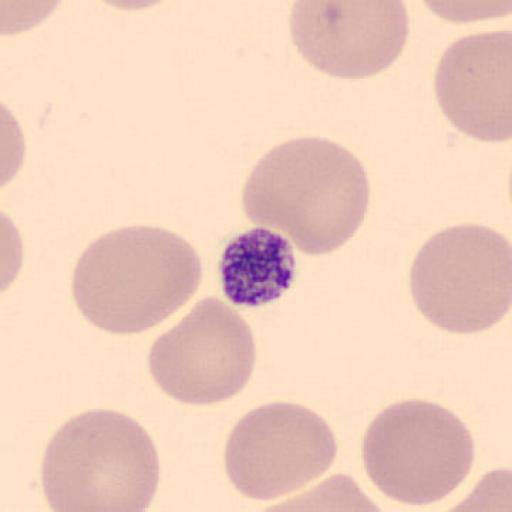Platelet: (216, 224, 299, 309)
RBC: (240, 134, 373, 257), (70, 223, 204, 336), (359, 397, 477, 509), (39, 408, 162, 512), (146, 294, 258, 407), (223, 398, 339, 503), (407, 221, 512, 336), (287, 1, 411, 81), (434, 26, 512, 145), (252, 471, 388, 512), (436, 465, 512, 511), (1, 0, 67, 38), (458, 467, 512, 512), (418, 0, 512, 25), (1, 101, 26, 191), (1, 208, 25, 298), (86, 0, 180, 11)
